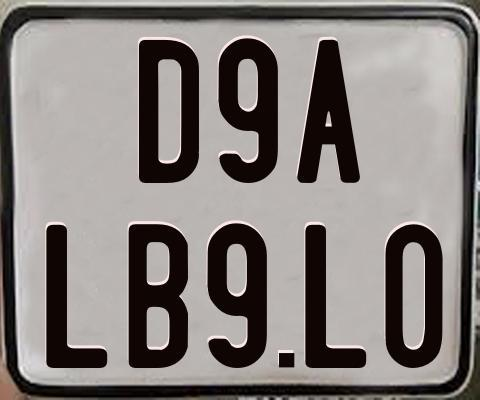0: (384, 224, 445, 371)
9: (217, 36, 280, 183), (204, 223, 266, 368)
A: (296, 37, 362, 184)
B: (127, 223, 190, 367)
D: (137, 40, 202, 183)
L: (45, 224, 112, 372), (302, 225, 364, 369)
